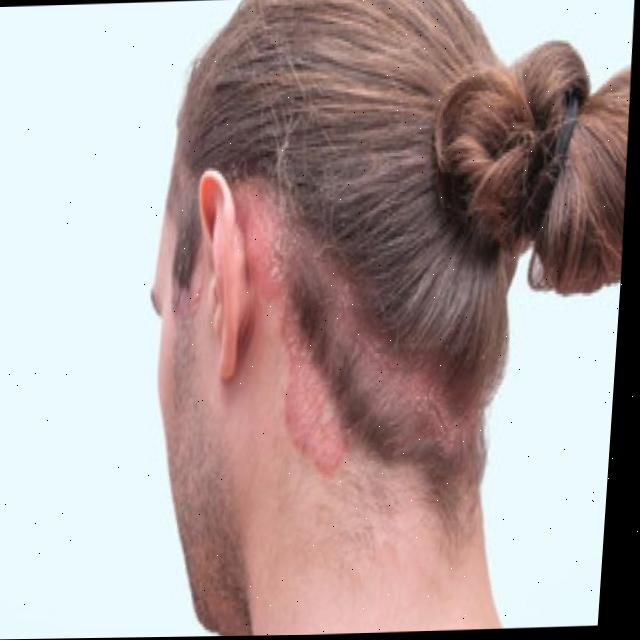Eczema: (270, 274, 404, 463)
